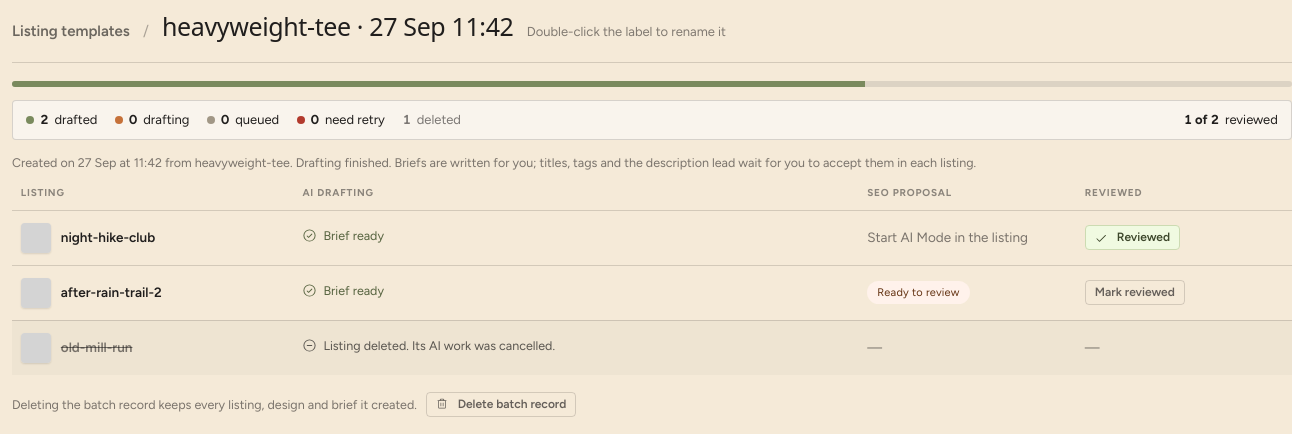
BatchSummaryPage › renames the batch by double-clicking its label
Double-click the heading "heavyweight-tee · 27 Sep 11:42": (338, 26) [162,12,514,40]
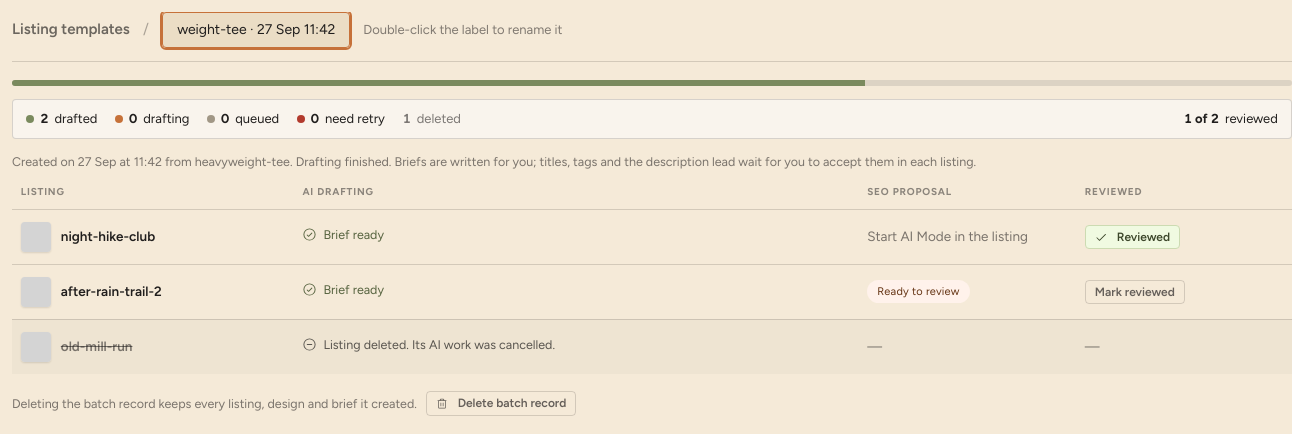
Replace the text in the field named "Batch label" with "Autumn trail drop": (256, 30) [162,12,350,48]
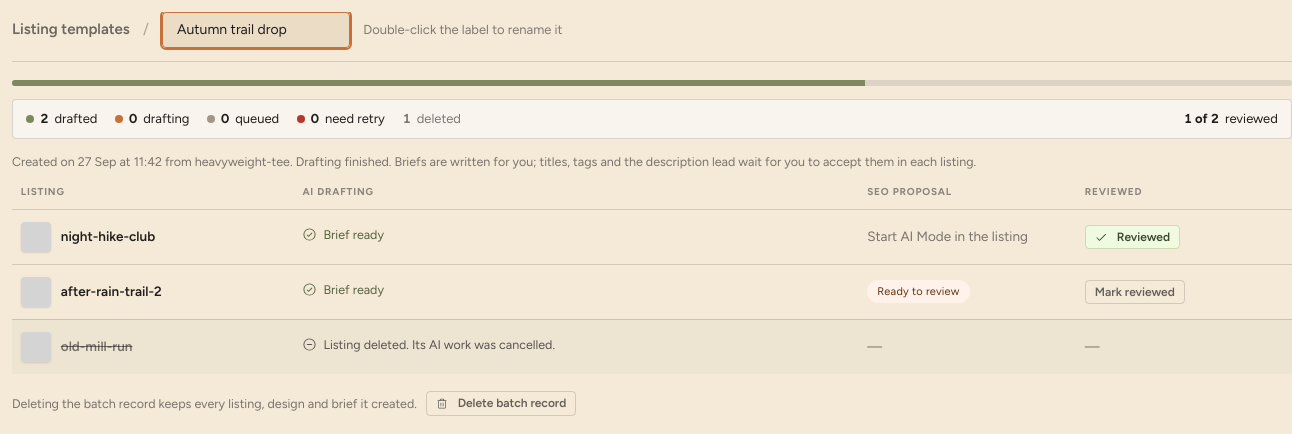
Press Enter in the field named "Batch label", box [162,12,350,48]
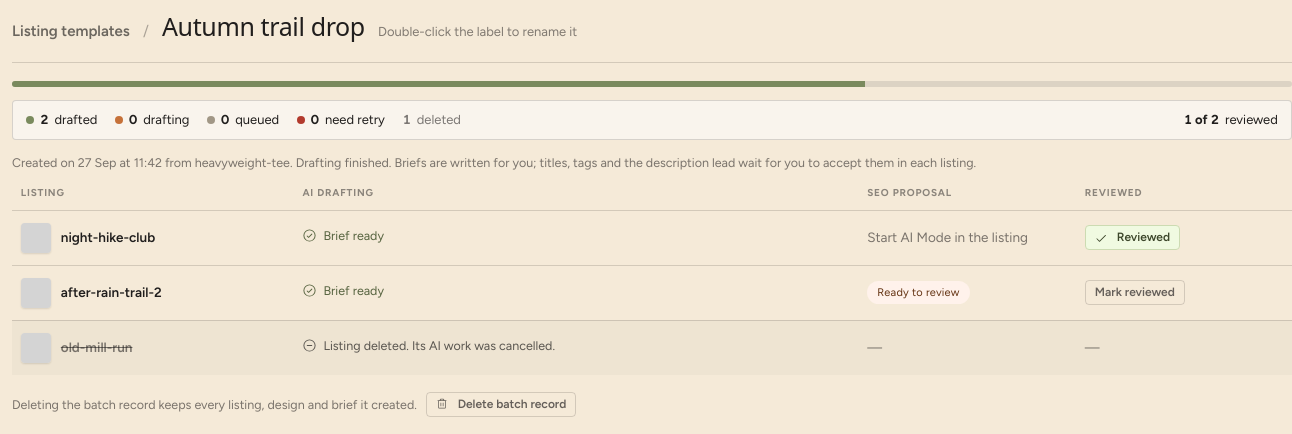
Expected: the heading "Autumn trail drop" is shown, [162,12,365,40]
